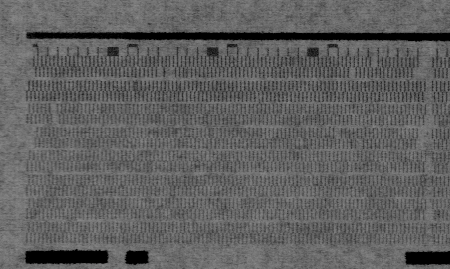Broken hole: (25, 126, 42, 150), (24, 55, 39, 80), (416, 124, 428, 151), (48, 102, 62, 125), (155, 66, 177, 80), (410, 66, 427, 81), (332, 126, 344, 141), (347, 67, 359, 79), (369, 57, 381, 69), (354, 139, 365, 151)
Oblique printing: (432, 114, 442, 129)
